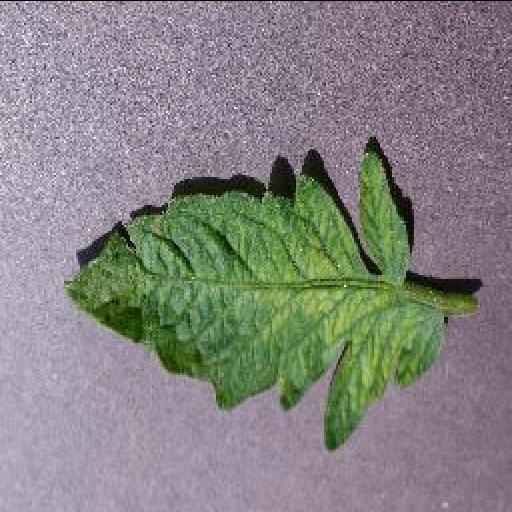disease_tomato: (60, 150, 452, 454)
